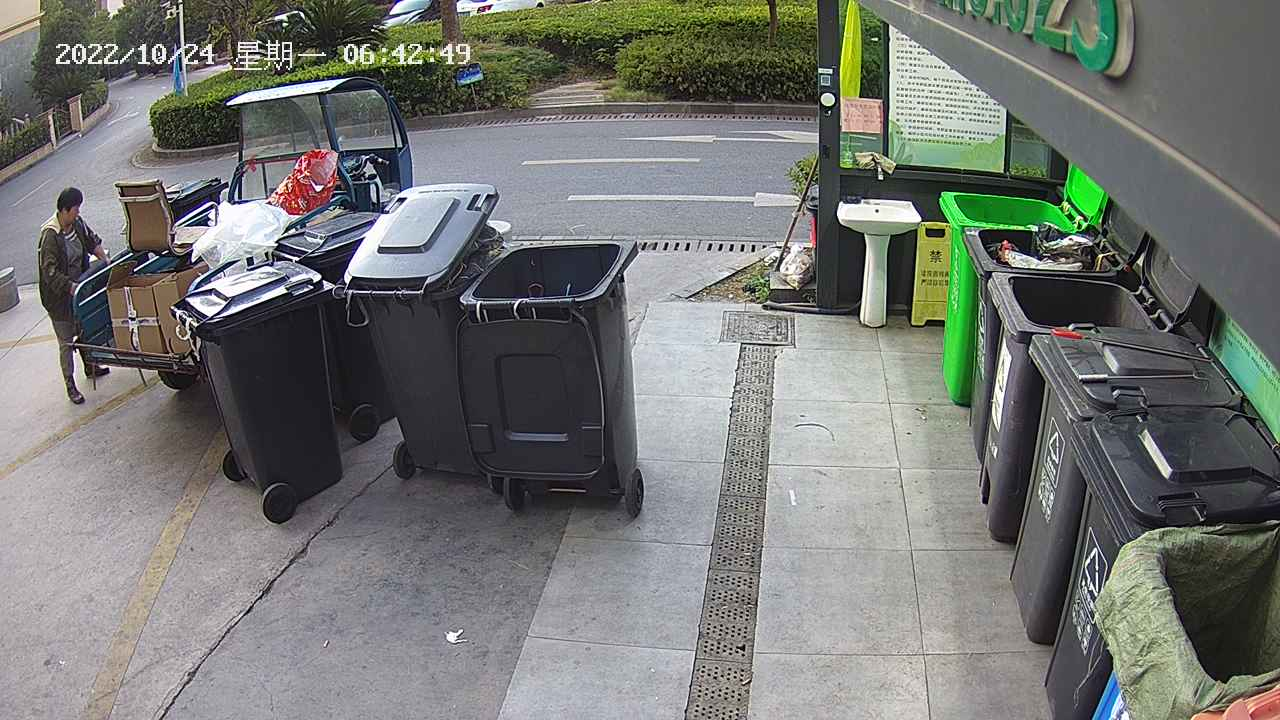garbage-bag: (776, 239, 815, 294)
person: (33, 183, 119, 411)
